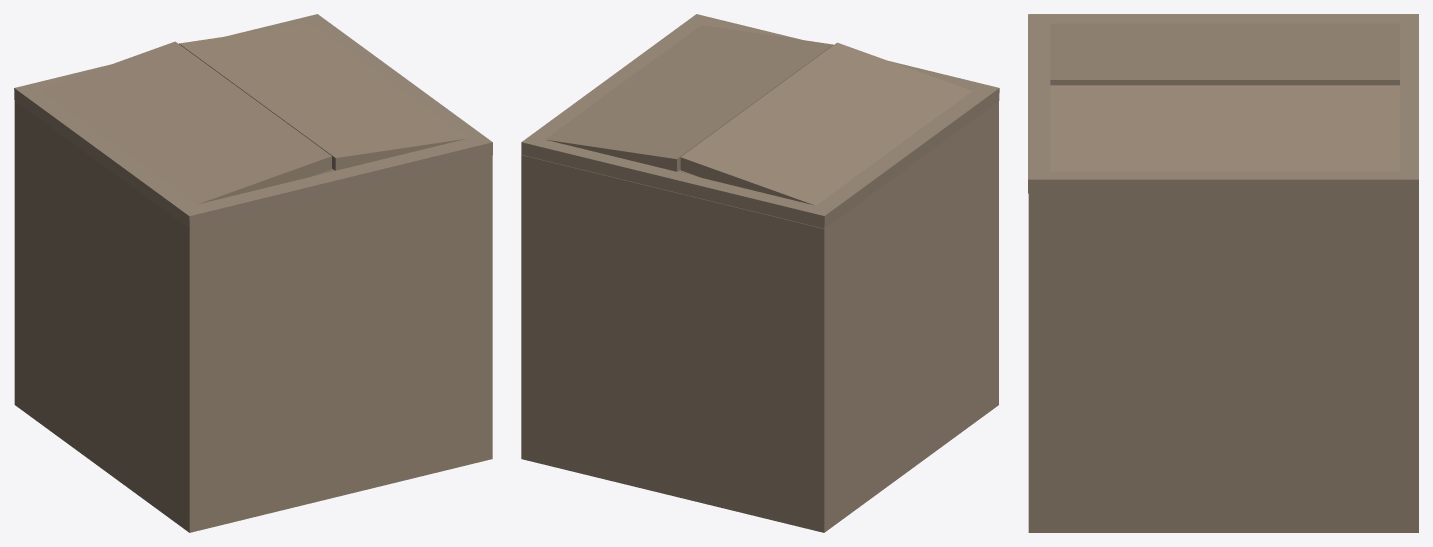
The model's file is Closed small box.fbx.
3 views of the same model, side by side, from view 1: azimuth 30°, elevation 25°; view 2: azimuth 150°, elevation 25°; view 3: azimuth 270°, elevation 25° (orthographic). The views are drawn at different scales.
Parts seen in each view (by area): view 1: Cardboard_box4; view 2: Cardboard_box4; view 3: Cardboard_box4.
Part boxes in pixels (x1,y1,x2,y2): Cardboard_box4: [14, 14, 492, 532]; Cardboard_box4: [521, 14, 999, 532]; Cardboard_box4: [1028, 14, 1418, 532].
Bounding box in the file's own units: 40.5 × 42.4 × 40.49.
